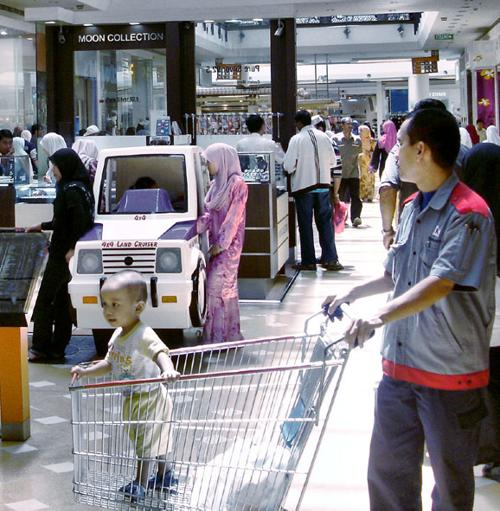person: (319, 99, 497, 511)
